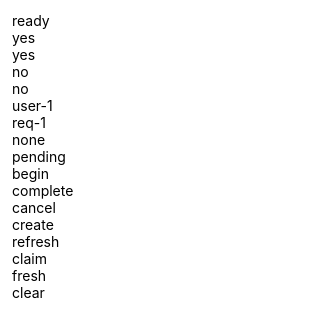
Test: ParentalConsentProvider claim intent › clears capability after successful claim
expect the text with test id "hydrate" reads "ready": met, box [12,12,50,29]
Click the text with test id "claim": (29,258) [12,250,47,267]
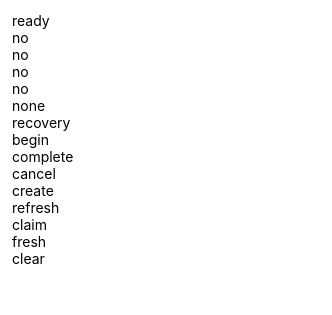
expect the text with test id "active" reads "no": met, box [12,29,29,46]
